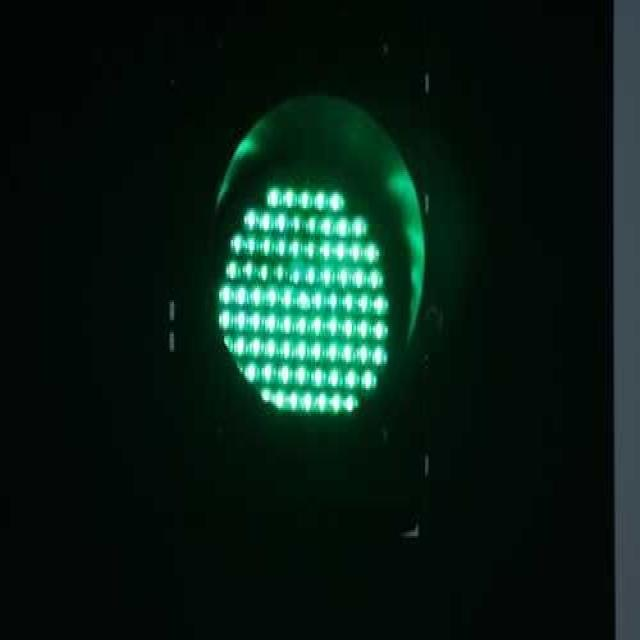Traffic Light -Red-: (165, 73, 458, 520)
